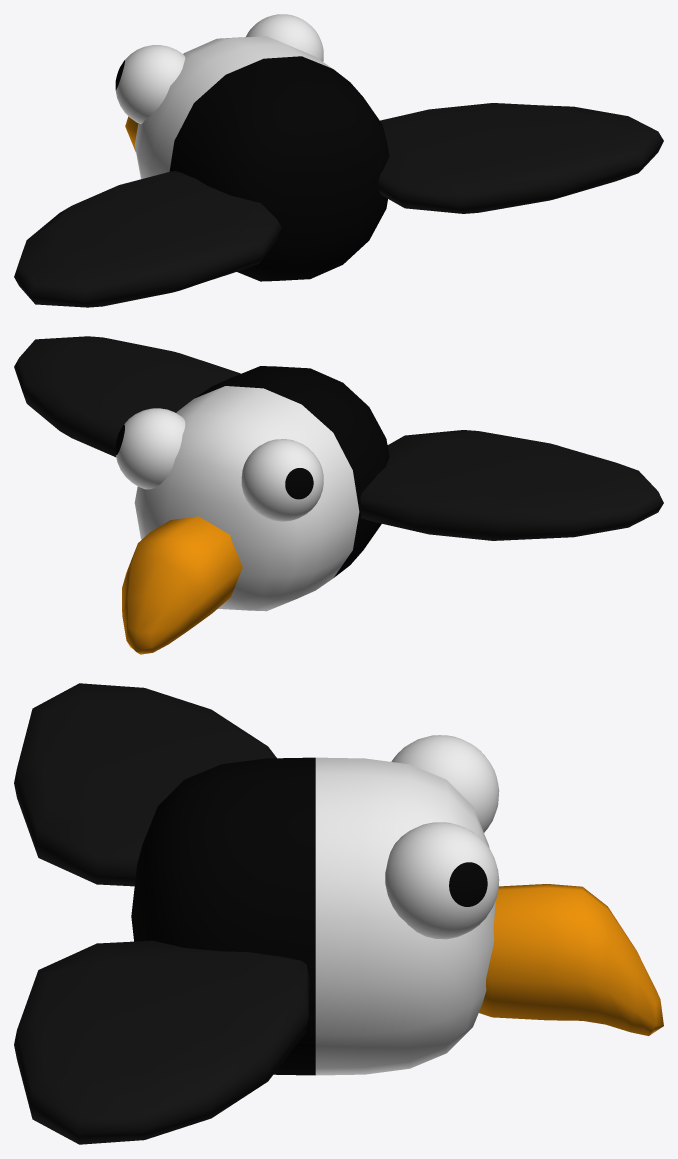
The model's file is BaldFlappy.fbx.
3 renders of one model, top to bottom at view 1: azimuth 30°, elevation 25°; view 2: azimuth 150°, elevation 25°; view 3: azimuth 270°, elevation 25°, orthographic. The views are drawn at different scales.
Visible parts, largest first — view 1: Body.003, Wing2.003, Wing1.003, Pupils.003; view 2: Body.003, Wing2.003, Wing1.003, Beak, Pupils.003; view 3: Body.003, Wing1.003, Wing2.003, Beak, Pupils.003.
Part boxes in pixels (box(x1,y1,x2,y2)): Body.003: box(134, 36, 389, 281); Wing2.003: box(14, 171, 281, 307); Wing1.003: box(377, 103, 663, 213); Pupils.003: box(115, 14, 323, 123); Body.003: box(134, 366, 389, 611); Wing2.003: box(360, 430, 663, 540); Wing1.003: box(14, 336, 240, 457); Beak: box(122, 516, 242, 654); Pupils.003: box(115, 408, 323, 521); Body.003: box(131, 757, 495, 1075); Wing1.003: box(14, 940, 309, 1144); Wing2.003: box(14, 683, 276, 886); Beak: box(479, 884, 663, 1035); Pupils.003: box(385, 735, 499, 939).
Size of the model in its own units: 607 by 380 by 183.
